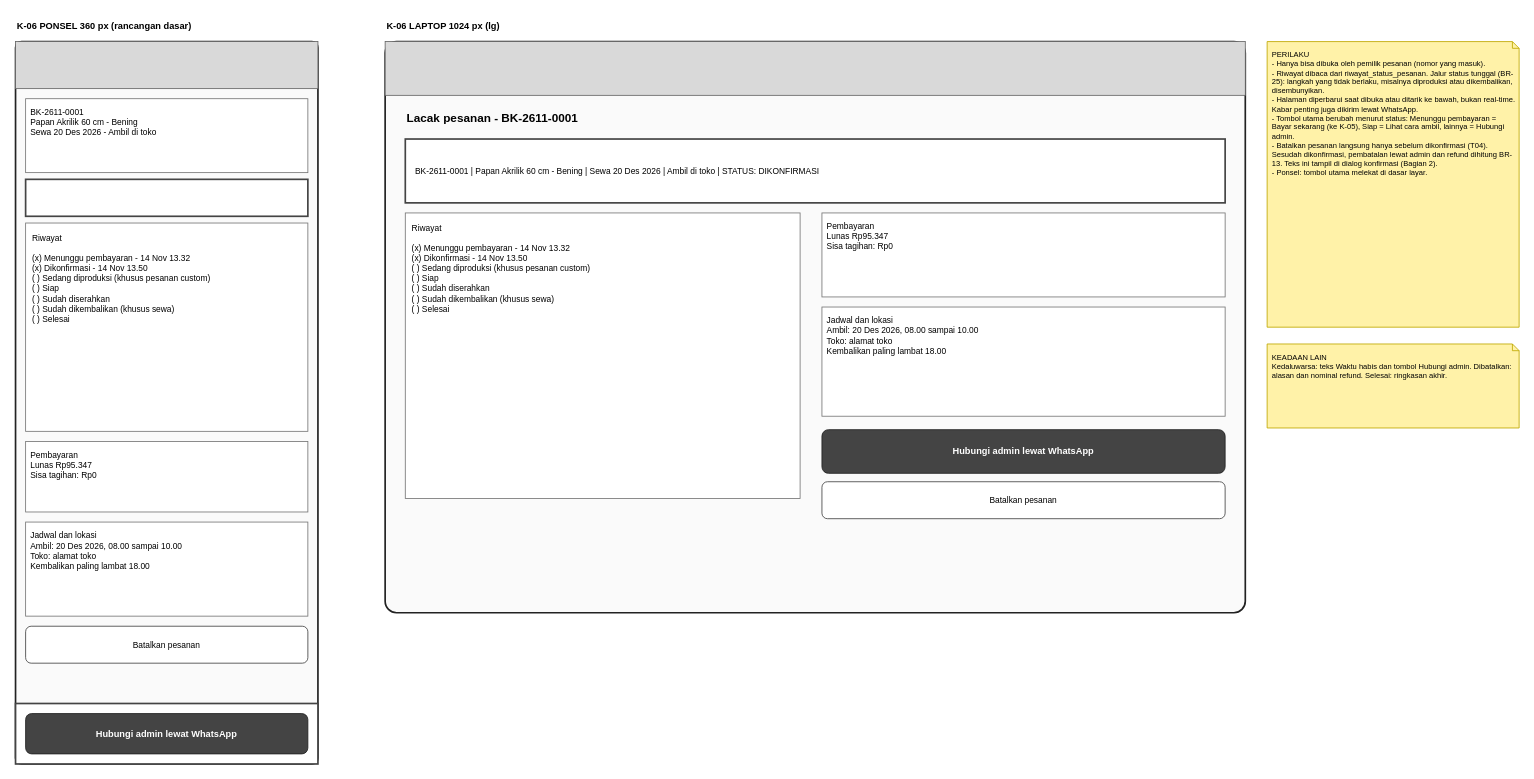
Some shapes in this 1534 by 779 pixel diagram are drawn without their labels. Each missing label, with the centre of its shape:
Berkah Kreatif | Katalog | Cara pesan | Lacak pesanan | Pesanan saya: [814,68]
Kembali | Lacak pesanan: [166,65]
STATUS SAAT INI: Dikonfirmasi: [166,197]
